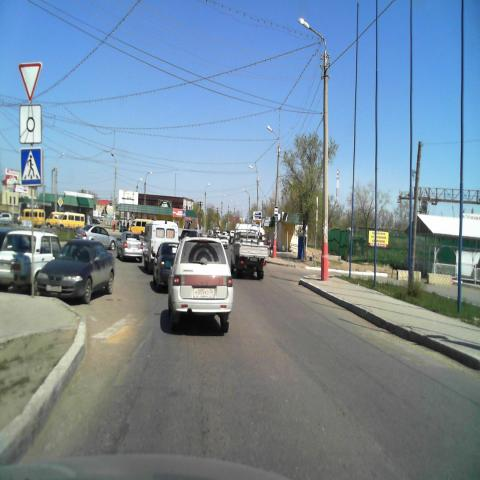8_13_1: (19, 104, 42, 145)
